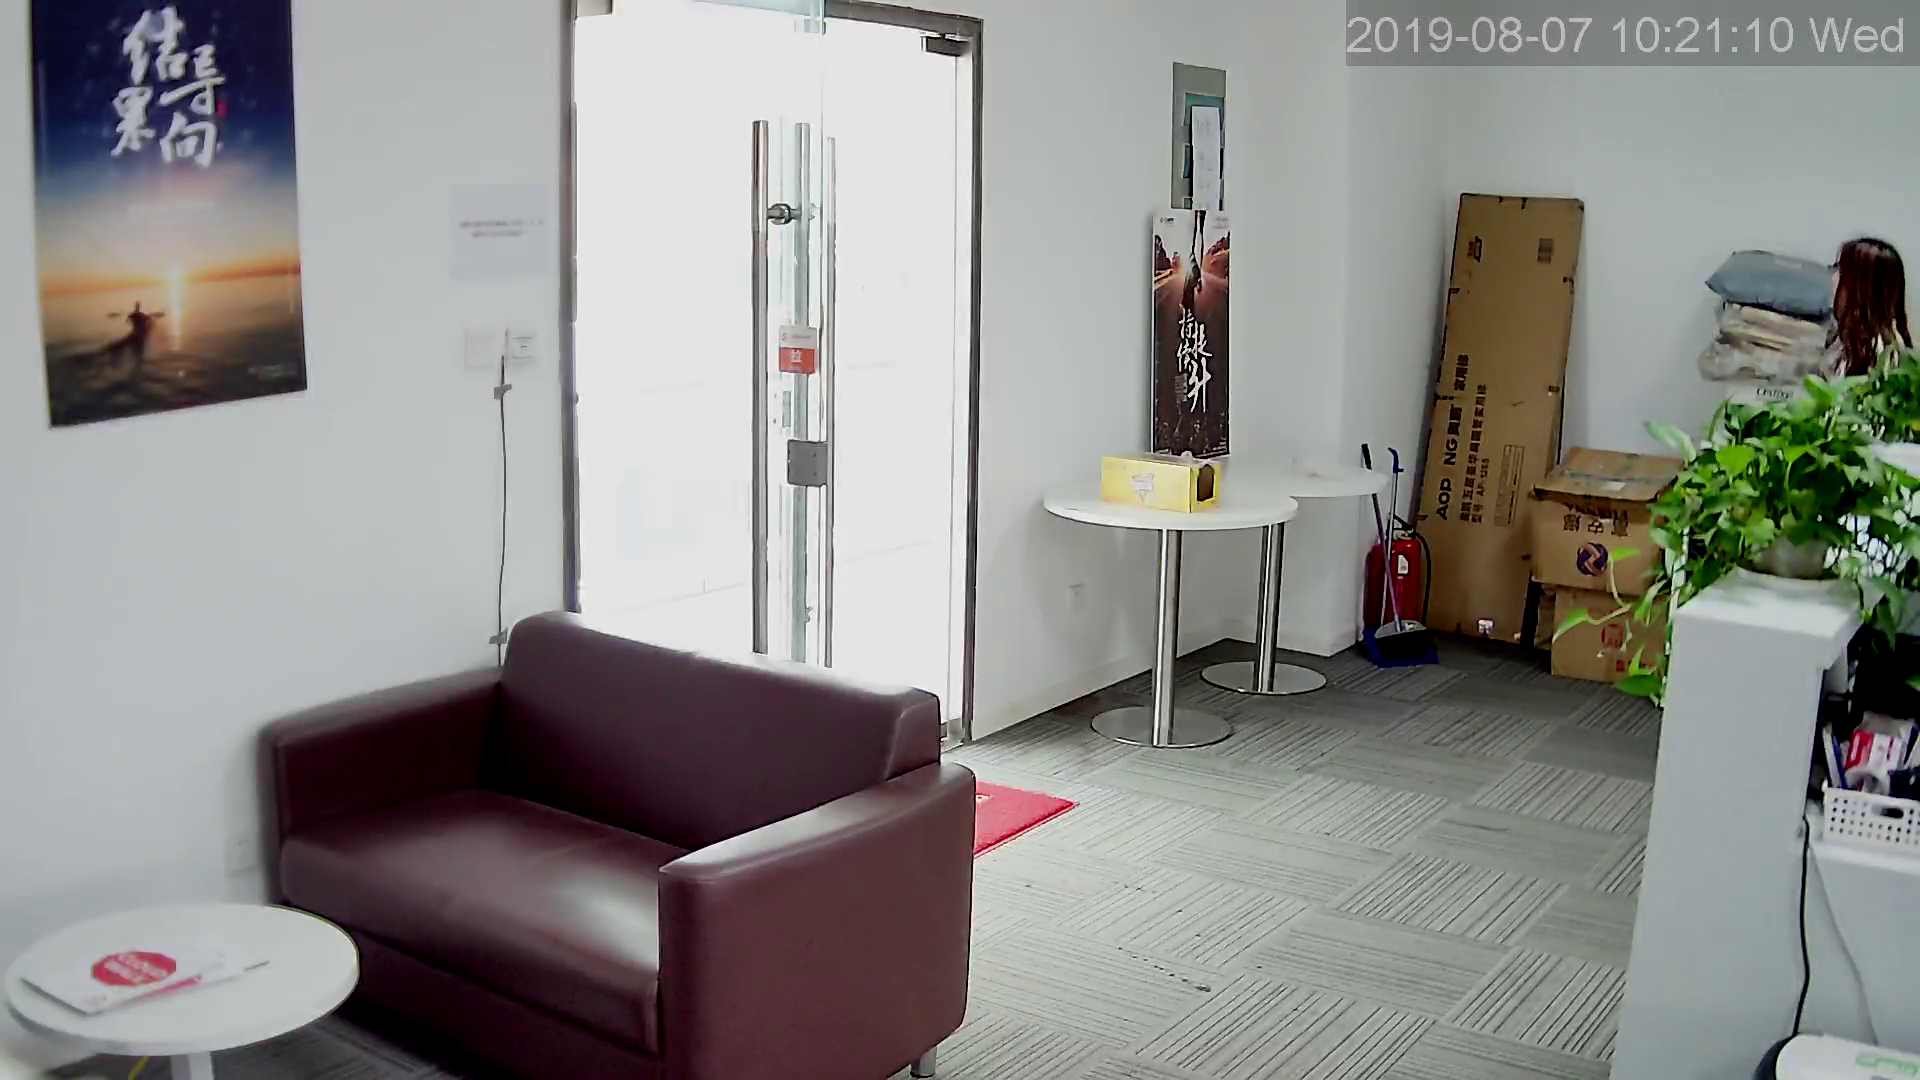bill: (33, 1, 315, 430), (1154, 210, 1226, 479)
